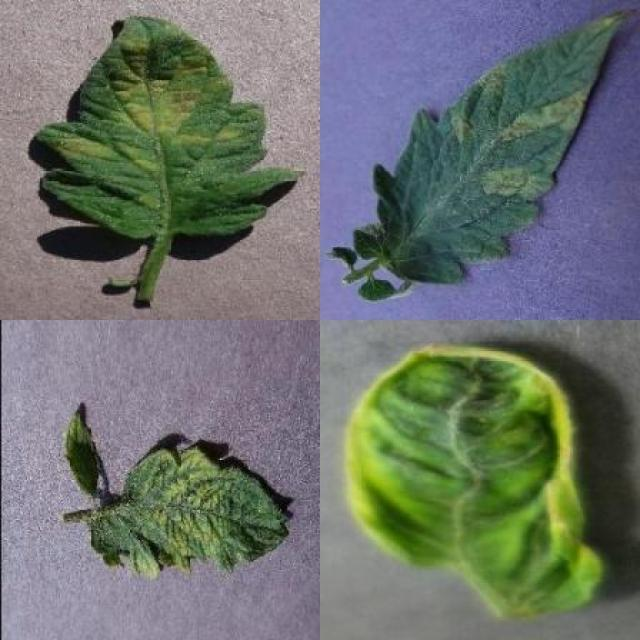Leaf Mold: (352, 10, 625, 287), (38, 15, 306, 239)
Mosaic Virus: (85, 446, 288, 581), (63, 407, 100, 493)
Yellow Leaf Curl Virus: (345, 342, 608, 618)
